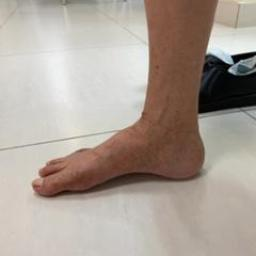Medial View -Right Foot-: (14, 78, 226, 212)
